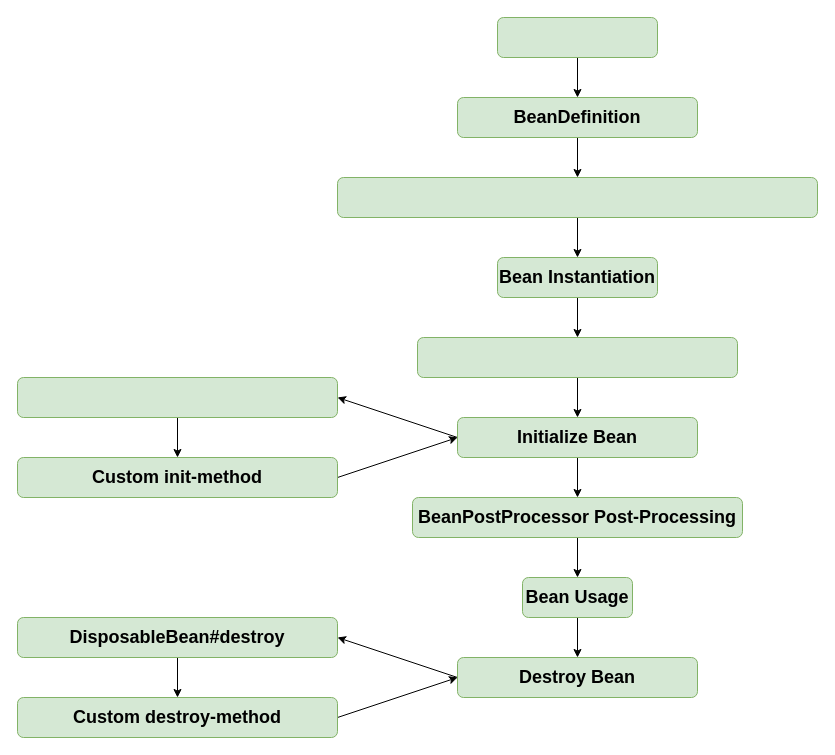
The diagram is 835 pixels wide and 755 high, and some of its shapes have lost their labels. The centre of each missing label's shape, as x and y in pixels:
"BeanFactoryPostProcessor modifies BeanDefinition" goes at point 577,197.
"BeanPostProcessor Pre-Processing" goes at point 577,357.
"InitializingBean#afterPropertiesSet" goes at point 177,397.
"XML" goes at point 577,37.
